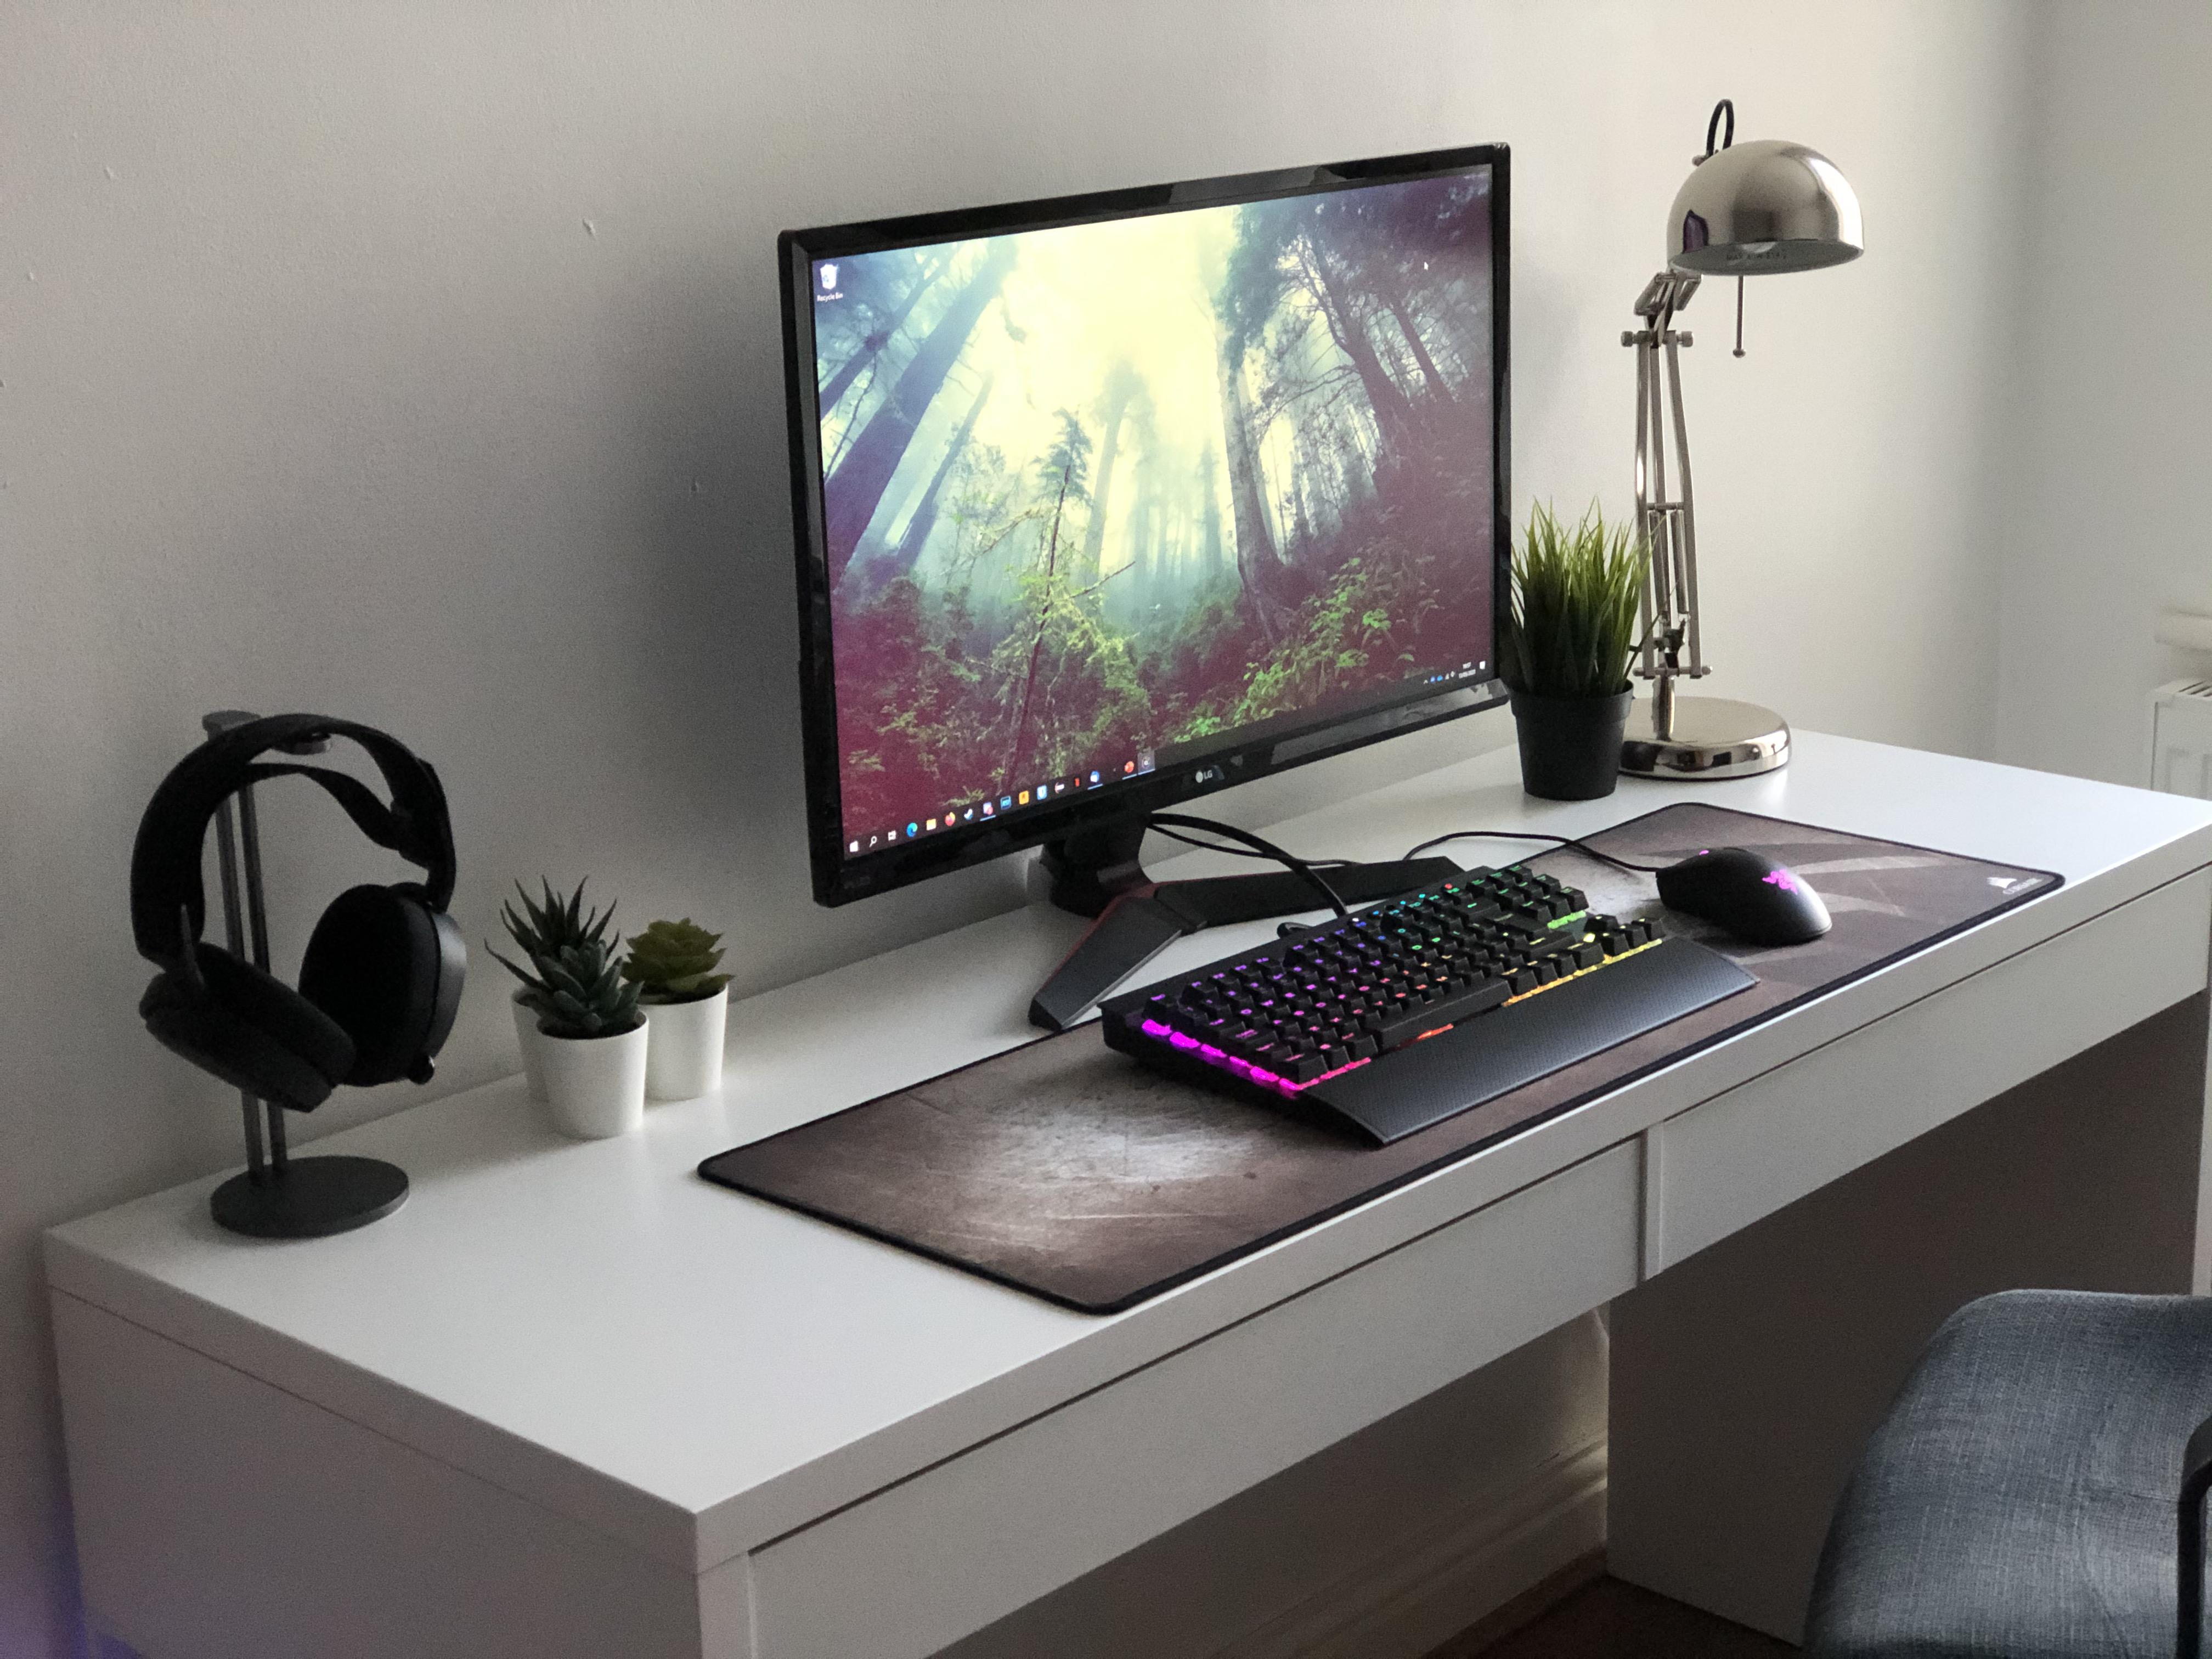Chair (Generic): (1700, 1230, 2212, 1629)
Decoration (Plant): (453, 875, 738, 1155), (1449, 483, 1672, 826)
Desk (Generic): (31, 706, 2212, 1636)
Headphones: (57, 674, 496, 1124)
Keyboard (Gaming): (1061, 847, 1759, 1166)
Lamp (Desk): (1538, 84, 1926, 802)
Monitor (Landscape): (761, 129, 1550, 929)
Mouse (Gaming): (1646, 824, 1829, 964)
Mousepad (Gaming): (683, 782, 2081, 1328)
